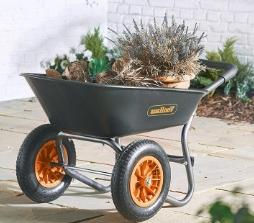BROUETTE: (7, 45, 244, 220)
